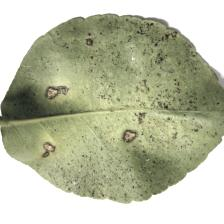canker: (34, 60, 193, 164)
